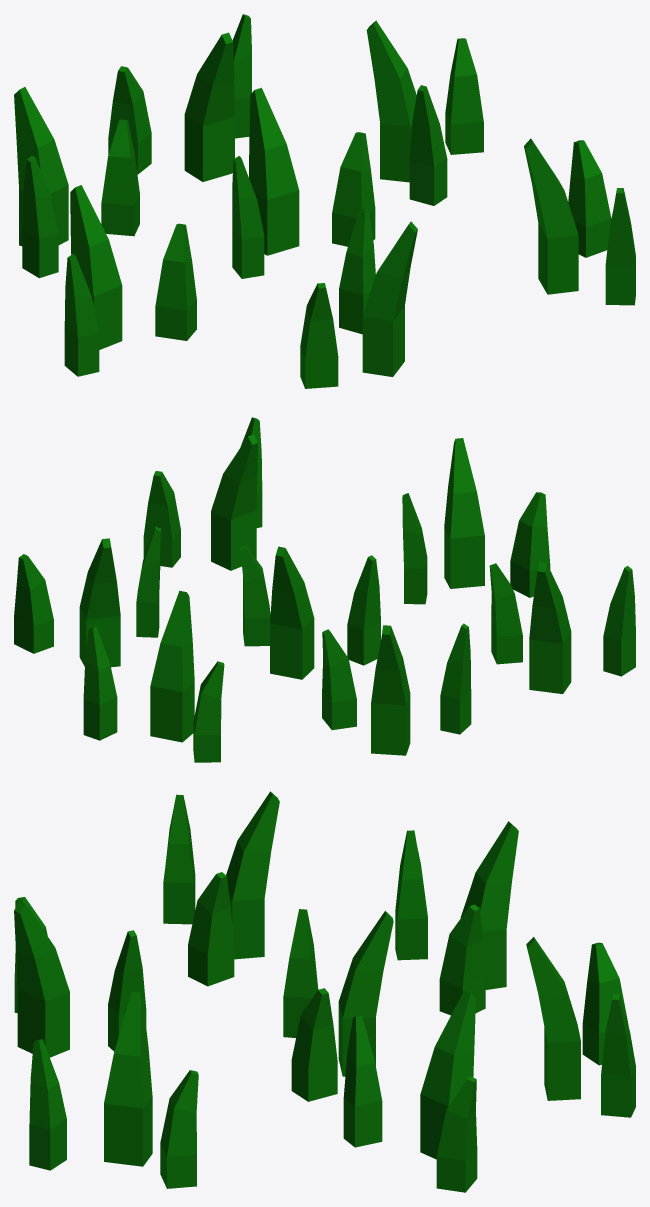
The model's file is grass.obj.
3 renders of one model, top to bottom at view 1: azimuth 30°, elevation 25°; view 2: azimuth 150°, elevation 25°; view 3: azimuth 270°, elevation 25°, orthographic. The views are drawn at different scales.
Parts seen in each view (by area): view 1: grass; view 2: grass; view 3: grass.
Part boxes in pixels (box(x1,y1,x2,y2)): grass: box(14, 14, 635, 388); grass: box(14, 417, 635, 762); grass: box(14, 791, 635, 1192).
Bounding box in the file's own units: 2.22 × 0.598 × 2.1.
